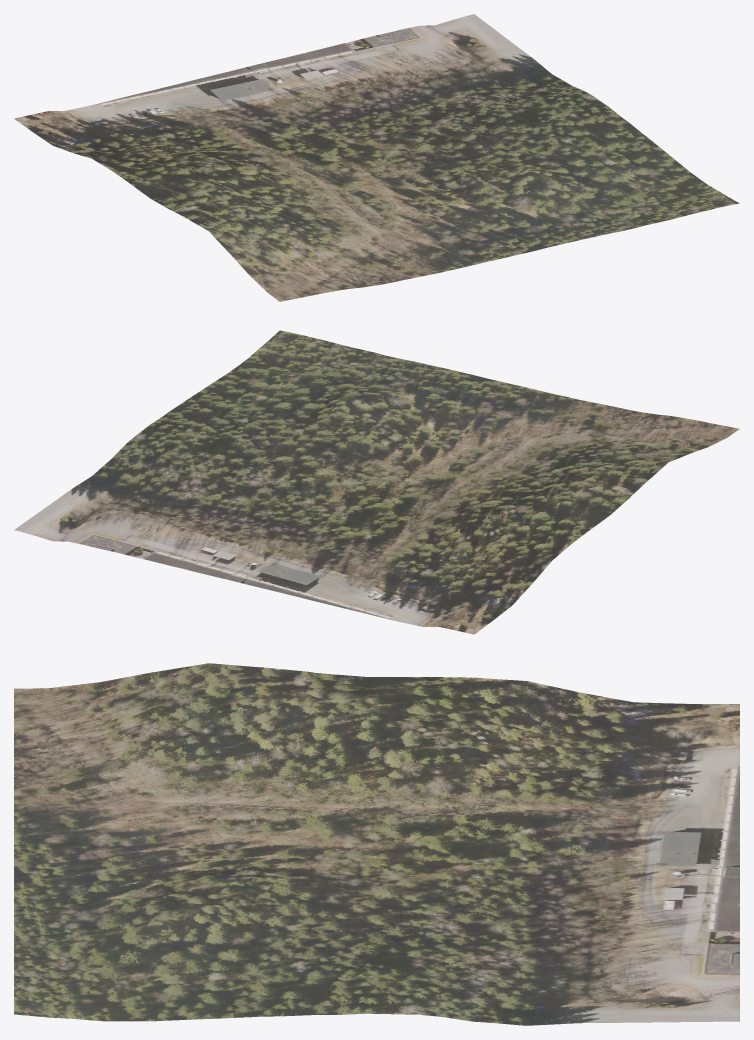
File: CM_Terrain_24493530_6815288.fbx
3 views of the same model, one above another, from view 1: azimuth 30°, elevation 25°; view 2: azimuth 150°, elevation 25°; view 3: azimuth 270°, elevation 25° (orthographic). The views are drawn at different scales.
Parts seen in each view (by area): view 1: CM_Terrain_24493530_6815288_LOD0; view 2: CM_Terrain_24493530_6815288_LOD0; view 3: CM_Terrain_24493530_6815288_LOD0.
Boxes of the visible parts, x1=… form: CM_Terrain_24493530_6815288_LOD0: x1=14, y1=14, x2=739, y2=301; CM_Terrain_24493530_6815288_LOD0: x1=14, y1=330, x2=739, y2=634; CM_Terrain_24493530_6815288_LOD0: x1=14, y1=663, x2=739, y2=1025.
Size of what is drawn, in the model's own units: 205 by 17.78 by 205.
